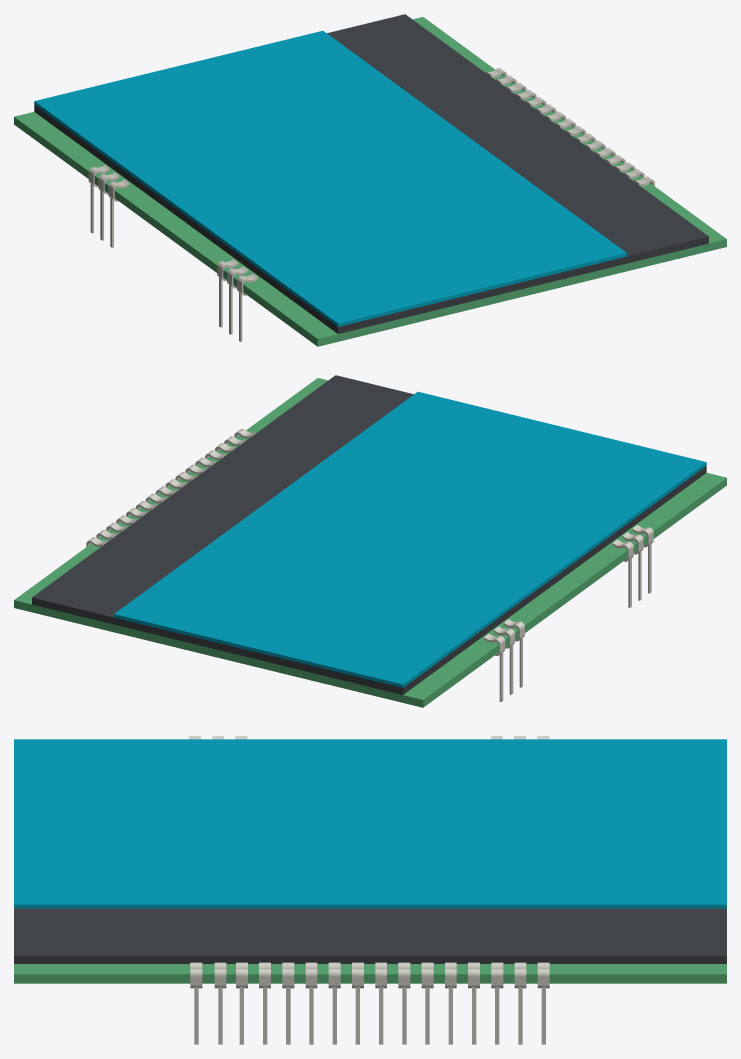
The model's file is kc-ea_dogxl160-7.glb.
The picture shows the model from 3 angles, top to bottom: view 1: azimuth 30°, elevation 25°; view 2: azimuth 150°, elevation 25°; view 3: azimuth 270°, elevation 25°; orthographic projection. The views are drawn at different scales.
Parts seen in each view (by area): view 1: 0_0.3333333333333333_0.5_0, 0.08333333333333333_0.08333333333333333_0.08333333333333333_, 0.08333333333333333_0.4166666666666667_0.16666666666666666_0, 0.6666666666666666_0.6666666666666666_0.5833333333333334_0.8; view 2: 0_0.3333333333333333_0.5_0, 0.08333333333333333_0.08333333333333333_0.08333333333333333_, 0.08333333333333333_0.4166666666666667_0.16666666666666666_0, 0.6666666666666666_0.6666666666666666_0.5833333333333334_0.8; view 3: 0_0.3333333333333333_0.5_0, 0.08333333333333333_0.08333333333333333_0.08333333333333333_, 0.08333333333333333_0.4166666666666667_0.16666666666666666_0, 0.6666666666666666_0.6666666666666666_0.5833333333333334_0.8.
Boxes of the visible parts, x1,y1,x2,y2 form: 0_0.3333333333333333_0.5_0: [34, 30, 626, 326]; 0.08333333333333333_0.08333333333333333_0.08333333333333333_: [34, 14, 708, 333]; 0.08333333333333333_0.4166666666666667_0.16666666666666666_0: [14, 17, 726, 346]; 0.6666666666666666_0.6666666666666666_0.5833333333333334_0.8: [88, 68, 654, 341]; 0_0.3333333333333333_0.5_0: [114, 391, 706, 687]; 0.08333333333333333_0.08333333333333333_0.08333333333333333_: [32, 375, 706, 694]; 0.08333333333333333_0.4166666666666667_0.16666666666666666_0: [14, 378, 726, 707]; 0.6666666666666666_0.6666666666666666_0.5833333333333334_0.8: [86, 428, 653, 702]; 0_0.3333333333333333_0.5_0: [14, 739, 726, 908]; 0.08333333333333333_0.08333333333333333_0.08333333333333333_: [14, 908, 726, 963]; 0.08333333333333333_0.4166666666666667_0.16666666666666666_0: [14, 964, 726, 983]; 0.6666666666666666_0.6666666666666666_0.5833333333333334_0.8: [189, 736, 549, 1044].
Size of the model in its own units: 6.13 by 0.9802 by 7.8.
